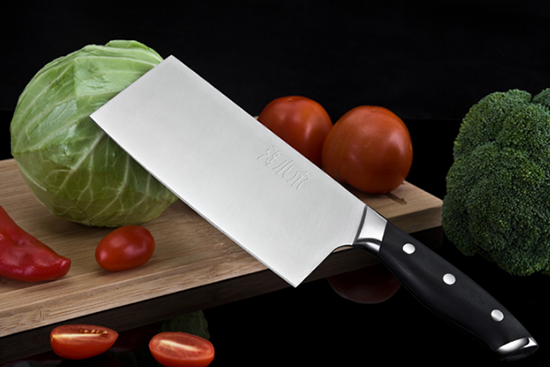knief: (104, 71, 531, 349)
